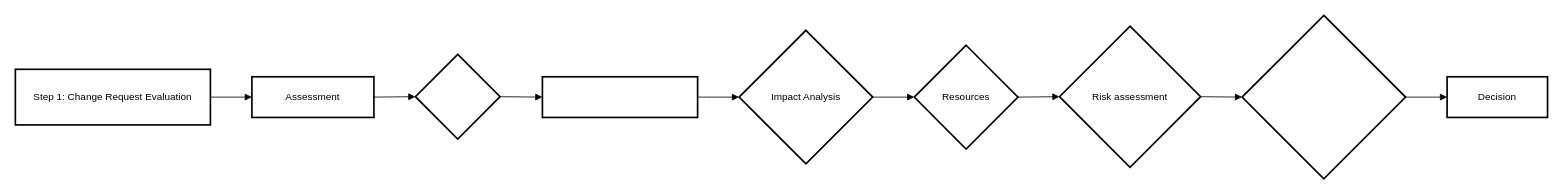
Some shapes in this 1562 by 193 pixel diagram are drawn without their labels. The shapes that lost their labels are listed below. From the top down, each one's box as (x1, y1, x2, y2) in pixels, then its label:
(414, 53, 500, 139): Factors
(541, 76, 698, 118): Evaluation criteria
(1241, 14, 1406, 179): Cost benefit analysis
